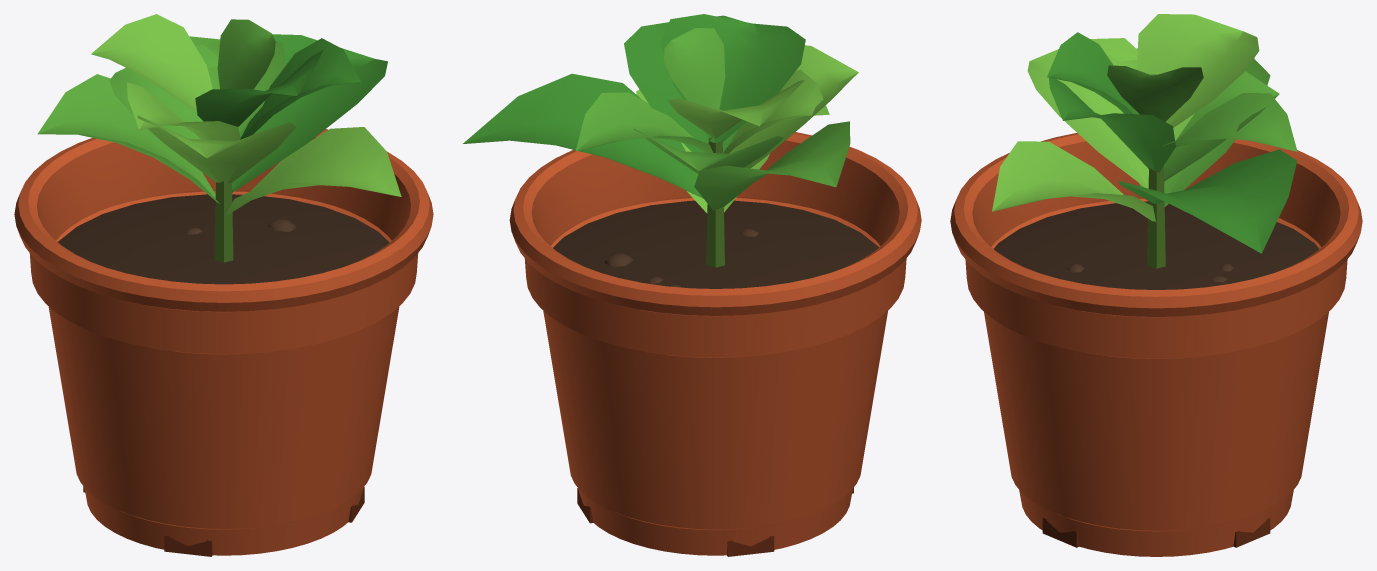
File: item-4.glb
The picture shows the model from 3 angles, left to right: view 1: azimuth 30°, elevation 25°; view 2: azimuth 150°, elevation 25°; view 3: azimuth 270°, elevation 25°; orthographic projection.
Parts seen in each view (by area): view 1: pot, plant, soil, notch.002; view 2: pot, plant, soil, notch.001; view 3: pot, plant, soil.
Part boxes in pixels (x1=…): pot: x1=14, y1=129, x2=433, y2=555; plant: x1=37, y1=14, x2=401, y2=262; soil: x1=58, y1=194, x2=389, y2=284; notch.002: x1=164, y1=535, x2=212, y2=556; pot: x1=509, y1=132, x2=921, y2=555; plant: x1=463, y1=14, x2=858, y2=267; soil: x1=553, y1=200, x2=878, y2=288; notch.001: x1=727, y1=535, x2=774, y2=556; pot: x1=950, y1=133, x2=1362, y2=556; plant: x1=992, y1=14, x2=1297, y2=268; soil: x1=994, y1=201, x2=1318, y2=289.
Size of the model in its own units: 0.1637 by 0.1859 by 0.154.
